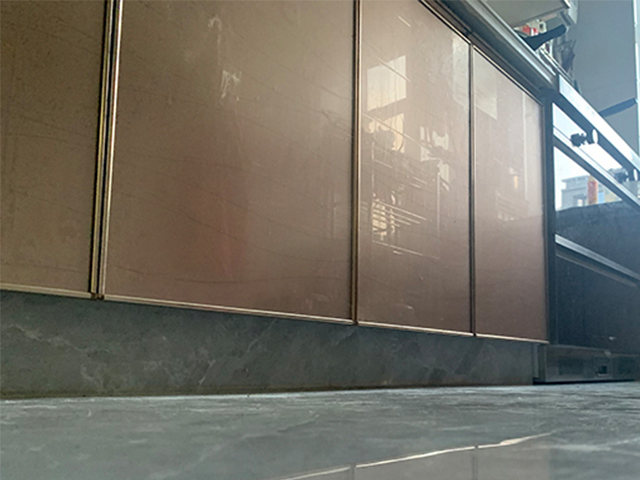cabinet: (1, 1, 640, 394)
